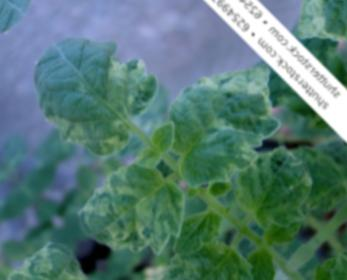Tomato leaf mosaic virus: (5, 4, 177, 176), (141, 41, 311, 211), (64, 145, 206, 280), (216, 131, 334, 250), (142, 215, 274, 280)
